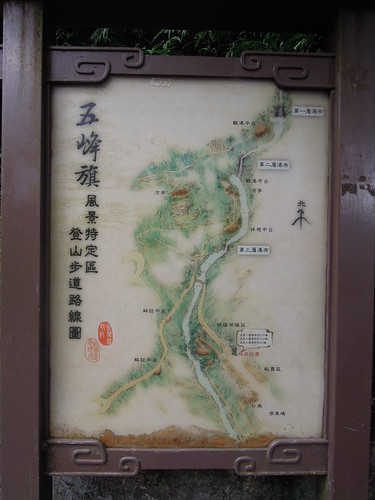wufengciMap: (56, 91, 325, 357)
